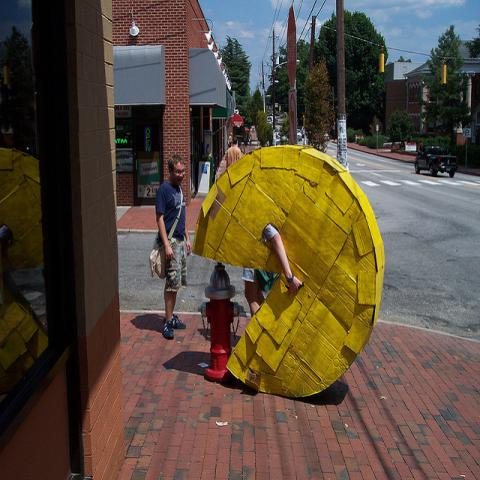car: (296, 129, 302, 141)
truck: (415, 146, 458, 177)
